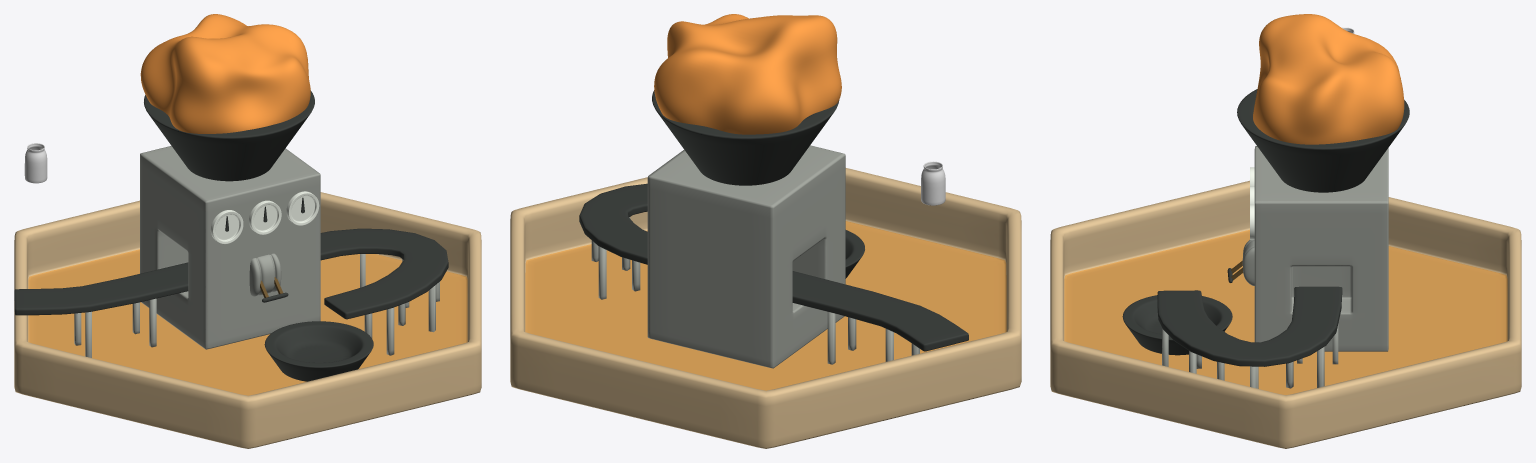
Rendered from Honey Factory.fbx.
The picture shows the model from 3 angles, left to right: view 1: azimuth 30°, elevation 25°; view 2: azimuth 150°, elevation 25°; view 3: azimuth 270°, elevation 25°; orthographic projection. The views are drawn at different scales.
Parts seen in each view (by area): view 1: Honey Factory Tile, Cube.053, Cube.055, Plane.019, Cylinder.030, Cylinder.031, Cube.054, Cube.056, Circle.009, Circle.007, Cylinder.035, Circle.008; view 2: Honey Factory Tile, Cube.053, Cube.055, Plane.019, Cylinder.030, Cube.054, Cylinder.035, Cylinder.031; view 3: Honey Factory Tile, Cube.053, Cube.055, Plane.019, Cylinder.030, Cylinder.031, Cube.054, Cube.056.
Boxes of the visible parts, <box> form: Honey Factory Tile: <box>14,192,481,448</box>; Cube.053: <box>140,146,320,349</box>; Cube.055: <box>140,14,310,133</box>; Plane.019: <box>14,228,448,319</box>; Cylinder.030: <box>144,90,314,181</box>; Cylinder.031: <box>264,321,373,381</box>; Cube.054: <box>74,254,439,357</box>; Cube.056: <box>249,253,281,296</box>; Circle.009: <box>286,191,319,225</box>; Circle.007: <box>210,210,243,244</box>; Cylinder.035: <box>24,143,47,183</box>; Circle.008: <box>249,200,281,234</box>; Honey Factory Tile: <box>510,168,1021,448</box>; Cube.053: <box>647,145,845,368</box>; Cube.055: <box>654,14,841,134</box>; Plane.019: <box>579,183,968,351</box>; Cylinder.030: <box>652,90,839,185</box>; Cube.054: <box>591,217,919,364</box>; Cylinder.035: <box>921,161,945,205</box>; Cylinder.031: <box>845,230,864,278</box>; Honey Factory Tile: <box>1050,180,1521,448</box>; Cube.053: <box>1254,146,1388,351</box>; Cube.055: <box>1253,14,1404,144</box>; Plane.019: <box>1157,286,1342,366</box>; Cylinder.030: <box>1237,89,1409,192</box>; Cylinder.031: <box>1122,295,1232,355</box>; Cube.054: <box>1162,324,1338,388</box>; Cube.056: <box>1242,240,1254,285</box>.
Bounding box in the file's own units: 99.54 × 64.16 × 86.6.
Materials: 2 (2 with a texture image).
